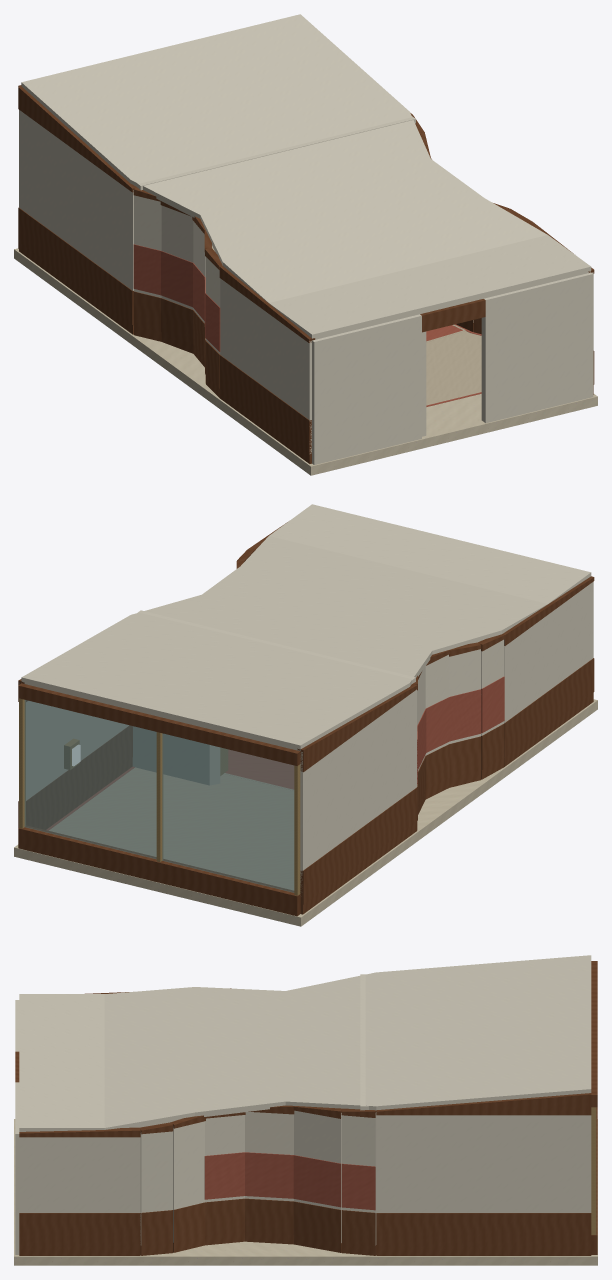
File: AST-SUI-001.glb
3 renders of one model, top to bottom at view 1: azimuth 30°, elevation 25°; view 2: azimuth 150°, elevation 25°; view 3: azimuth 270°, elevation 25°, orthographic.
Visible parts, largest first — view 1: SUI_Runtime_ivory_enamel, SUI_Runtime_warm_walnut, SUI_Runtime_warm_stone, SUI_Runtime_clay_weave, SUI_Runtime_oatmeal_weave; view 2: SUI_Runtime_ivory_enamel, SUI_Runtime_glass, SUI_Runtime_warm_walnut, SUI_Runtime_oatmeal_weave, SUI_Runtime_warm_stone, SUI_Runtime_clay_weave, SUI_Runtime_champagne_metal; view 3: SUI_Runtime_ivory_enamel, SUI_Runtime_warm_walnut, SUI_Runtime_warm_stone, SUI_Runtime_clay_weave, SUI_Runtime_champagne_metal.
Boxes of the visible parts, left/top/right/bottom form: SUI_Runtime_ivory_enamel: left=19, top=14, right=593, bottom=464; SUI_Runtime_warm_walnut: left=18, top=85, right=594, bottom=463; SUI_Runtime_warm_stone: left=14, top=248, right=597, bottom=475; SUI_Runtime_clay_weave: left=133, top=244, right=481, bottom=406; SUI_Runtime_oatmeal_weave: left=212, top=245, right=481, bottom=405; SUI_Runtime_ivory_enamel: left=19, top=504, right=593, bottom=885; SUI_Runtime_glass: left=24, top=700, right=294, bottom=892; SUI_Runtime_warm_walnut: left=18, top=522, right=594, bottom=916; SUI_Runtime_oatmeal_weave: left=49, top=767, right=293, bottom=890; SUI_Runtime_warm_stone: left=14, top=699, right=597, bottom=926; SUI_Runtime_clay_weave: left=46, top=676, right=504, bottom=830; SUI_Runtime_champagne_metal: left=19, top=698, right=300, bottom=895; SUI_Runtime_ivory_enamel: left=15, top=955, right=591, bottom=1254; SUI_Runtime_warm_walnut: left=15, top=961, right=597, bottom=1255; SUI_Runtime_warm_stone: left=14, top=1119, right=597, bottom=1265; SUI_Runtime_clay_weave: left=204, top=1152, right=375, bottom=1210; SUI_Runtime_champagne_metal: left=591, top=1107, right=596, bottom=1234.
Size of the model in its own units: 7.2 by 4.26 by 12.9.
9 materials, 7 textured.
